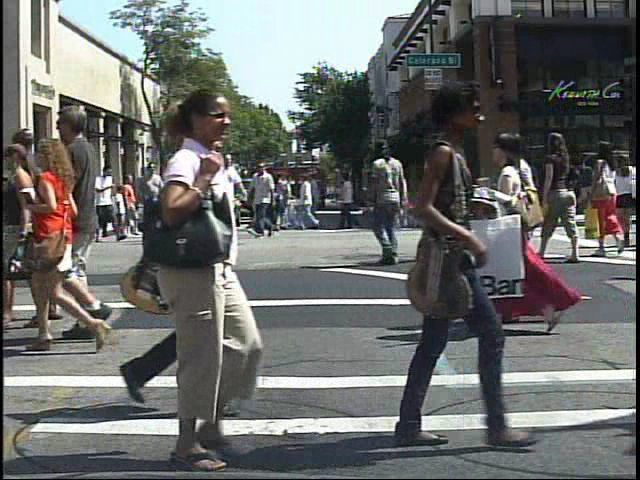person: (346, 78, 536, 460), (110, 83, 283, 476), (485, 127, 573, 347), (46, 100, 121, 349), (20, 130, 97, 348), (515, 130, 550, 345), (414, 138, 471, 269), (541, 126, 588, 262), (371, 134, 410, 275), (585, 135, 626, 261), (85, 162, 122, 248), (143, 159, 174, 245), (161, 158, 192, 241), (389, 163, 416, 236), (69, 180, 95, 243), (617, 146, 639, 219), (223, 148, 234, 250), (81, 183, 101, 226)
